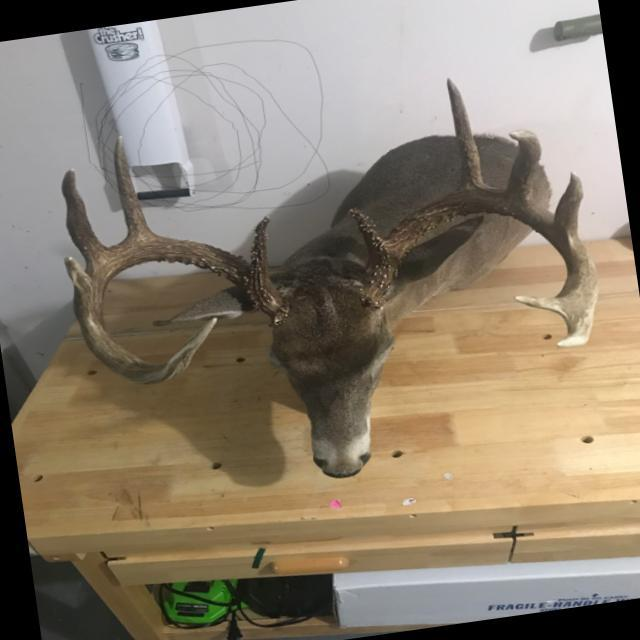L-F: (362, 191, 599, 347)
L-G1: (347, 206, 391, 260)
L-G2: (445, 76, 488, 191)
R-F: (79, 237, 288, 384)
R-G1: (250, 215, 271, 281)
R-G2: (114, 135, 157, 242)
